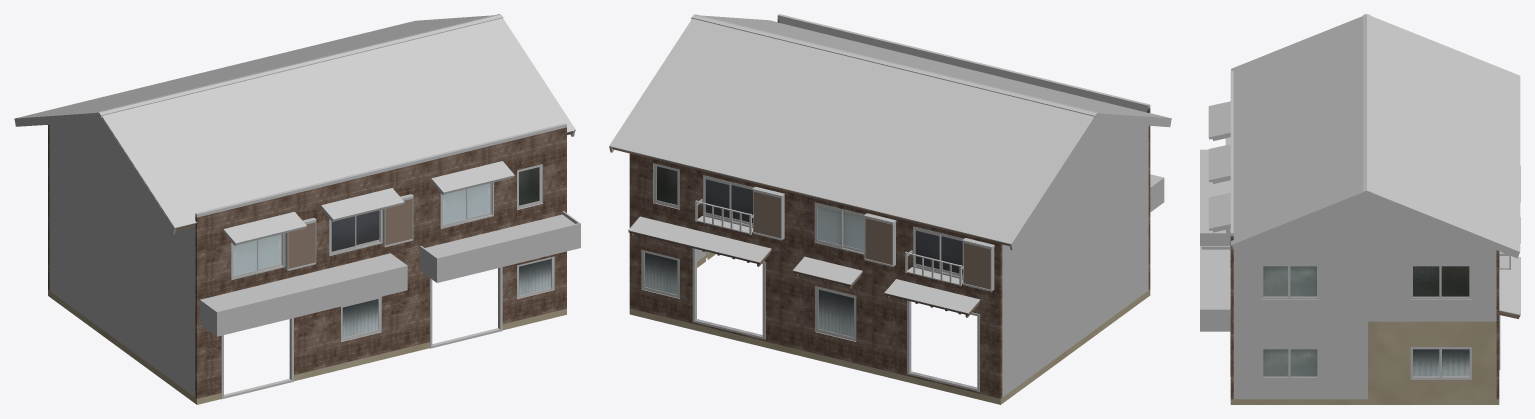
Rendered from JpHouse_03a.fbx.
3 renders of one model, left to right at view 1: azimuth 30°, elevation 25°; view 2: azimuth 150°, elevation 25°; view 3: azimuth 270°, elevation 25°, orthographic. The views are drawn at different scales.
Visible parts, largest first — view 1: JpHouse_03a; view 2: JpHouse_03a; view 3: JpHouse_03a.
Boxes of the visible parts, x1,y1,x2,y2 form: JpHouse_03a: [14, 14, 580, 404]; JpHouse_03a: [609, 14, 1171, 404]; JpHouse_03a: [1200, 14, 1520, 404].
Size of the model in its own units: 13.71 by 7.91 by 10.5.
